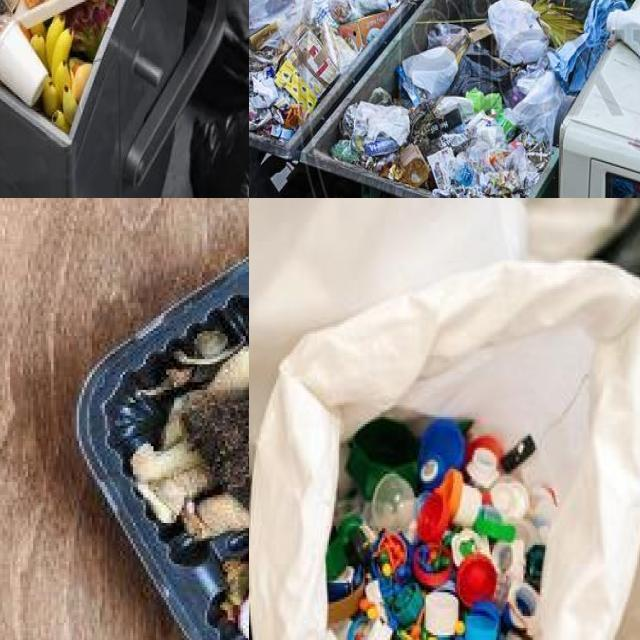Disposable: (0, 20, 48, 106)
Garbage: (74, 257, 249, 640), (332, 0, 627, 198), (325, 418, 557, 640), (249, 0, 402, 146)
Plastic: (327, 418, 557, 640), (454, 153, 474, 187)
Plastic_Bag: (439, 128, 539, 198), (275, 28, 340, 114), (509, 70, 565, 147), (488, 0, 548, 65), (340, 101, 409, 155), (448, 44, 511, 96), (402, 47, 458, 98), (249, 0, 303, 41), (428, 23, 470, 61), (466, 87, 504, 114), (476, 124, 506, 148), (302, 0, 330, 24), (352, 0, 389, 16), (496, 112, 517, 140)
Plastic_bottle: (398, 143, 430, 187)
Tetrapack: (426, 107, 461, 139)
contaminated_waste: (0, 17, 48, 107)
